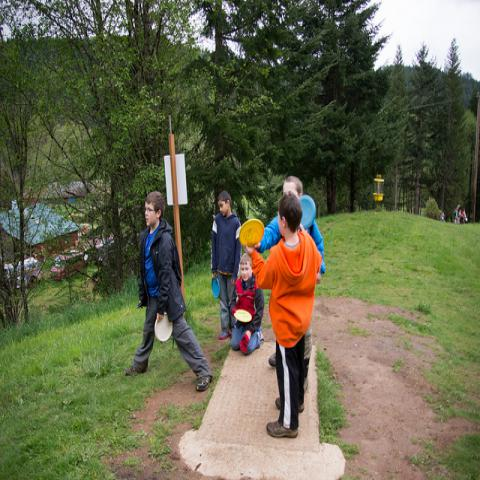car: (50, 246, 88, 284)
truck: (23, 257, 43, 290)
